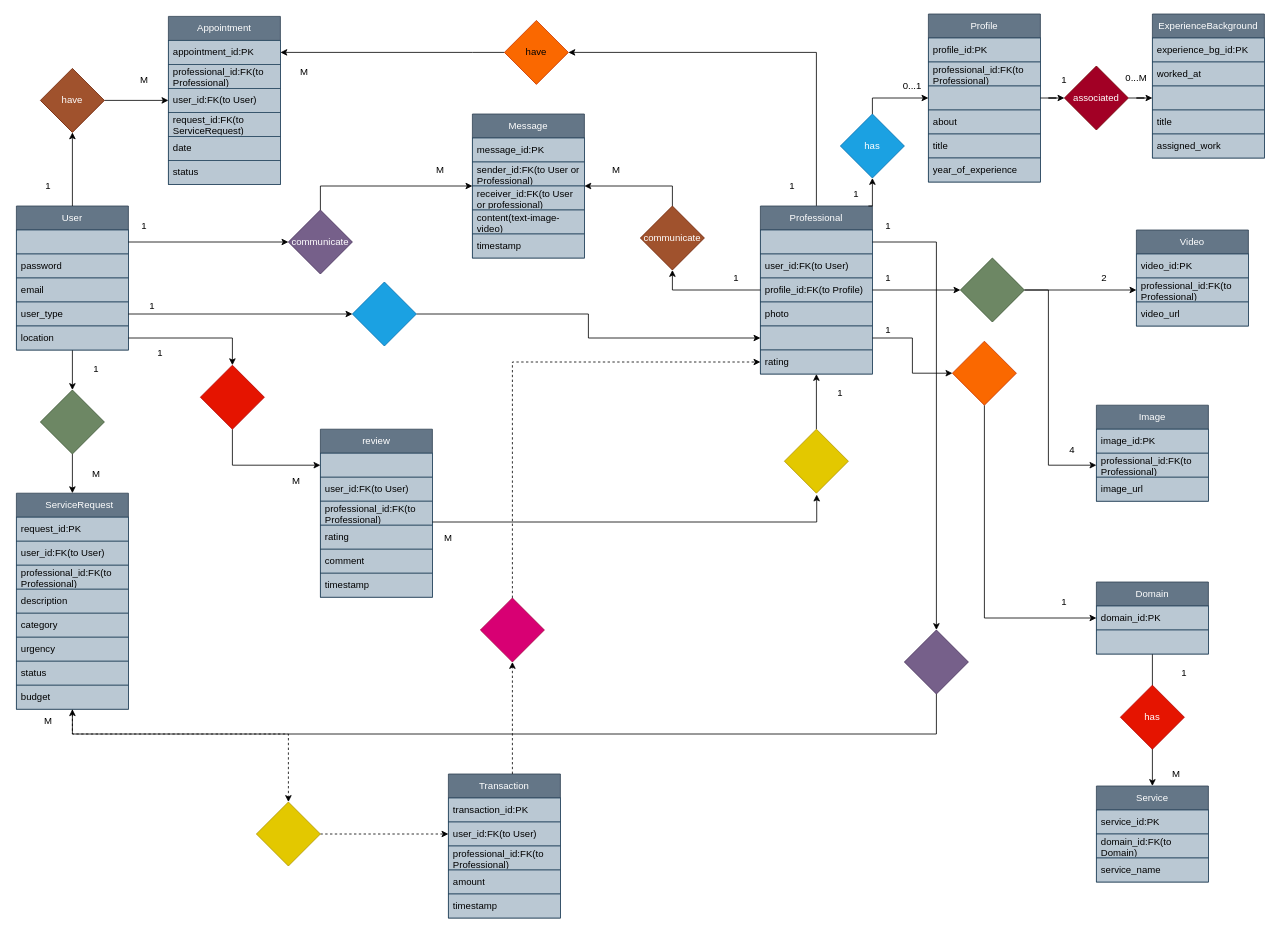
The diagram is 1278 pixels wide and 932 high, and some of its shapes have lost their labels. The centre of each missing label's shape, as x and y in pixels:
"availability" belongs at [816,337].
"can be && must be" belongs at [384,313].
"domain_name" belongs at [1152,641].
"duration" belongs at [1208,97].
"experience_bg_id:FK(to ExperienceBackground)" belongs at [984,97].
"get paid" belongs at [512,629].
"give" belongs at [232,396].
"handle" belongs at [936,661].
"pay" belongs at [288,833].
"post" belongs at [992,289].
"professional_id:PK" belongs at [816,241].
"propose" belongs at [984,372].
"receive" belongs at [816,460].
"review_id:PK" belongs at [376,464].
"submit service request" belongs at [72,421].
"user_id:PK" belongs at [72,241].
